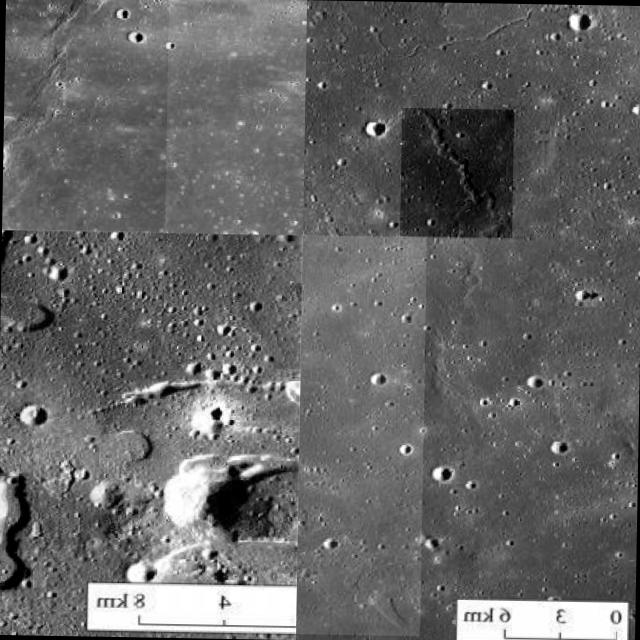rille: (331, 0, 640, 228), (294, 234, 426, 636), (1, 0, 168, 231), (399, 108, 514, 238), (0, 229, 36, 590)
